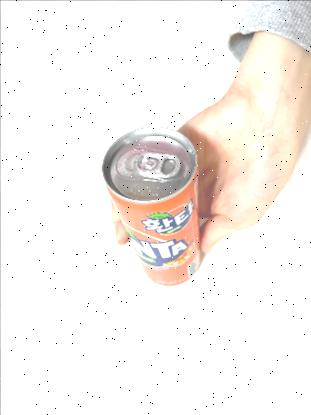Can: (97, 120, 204, 290)
